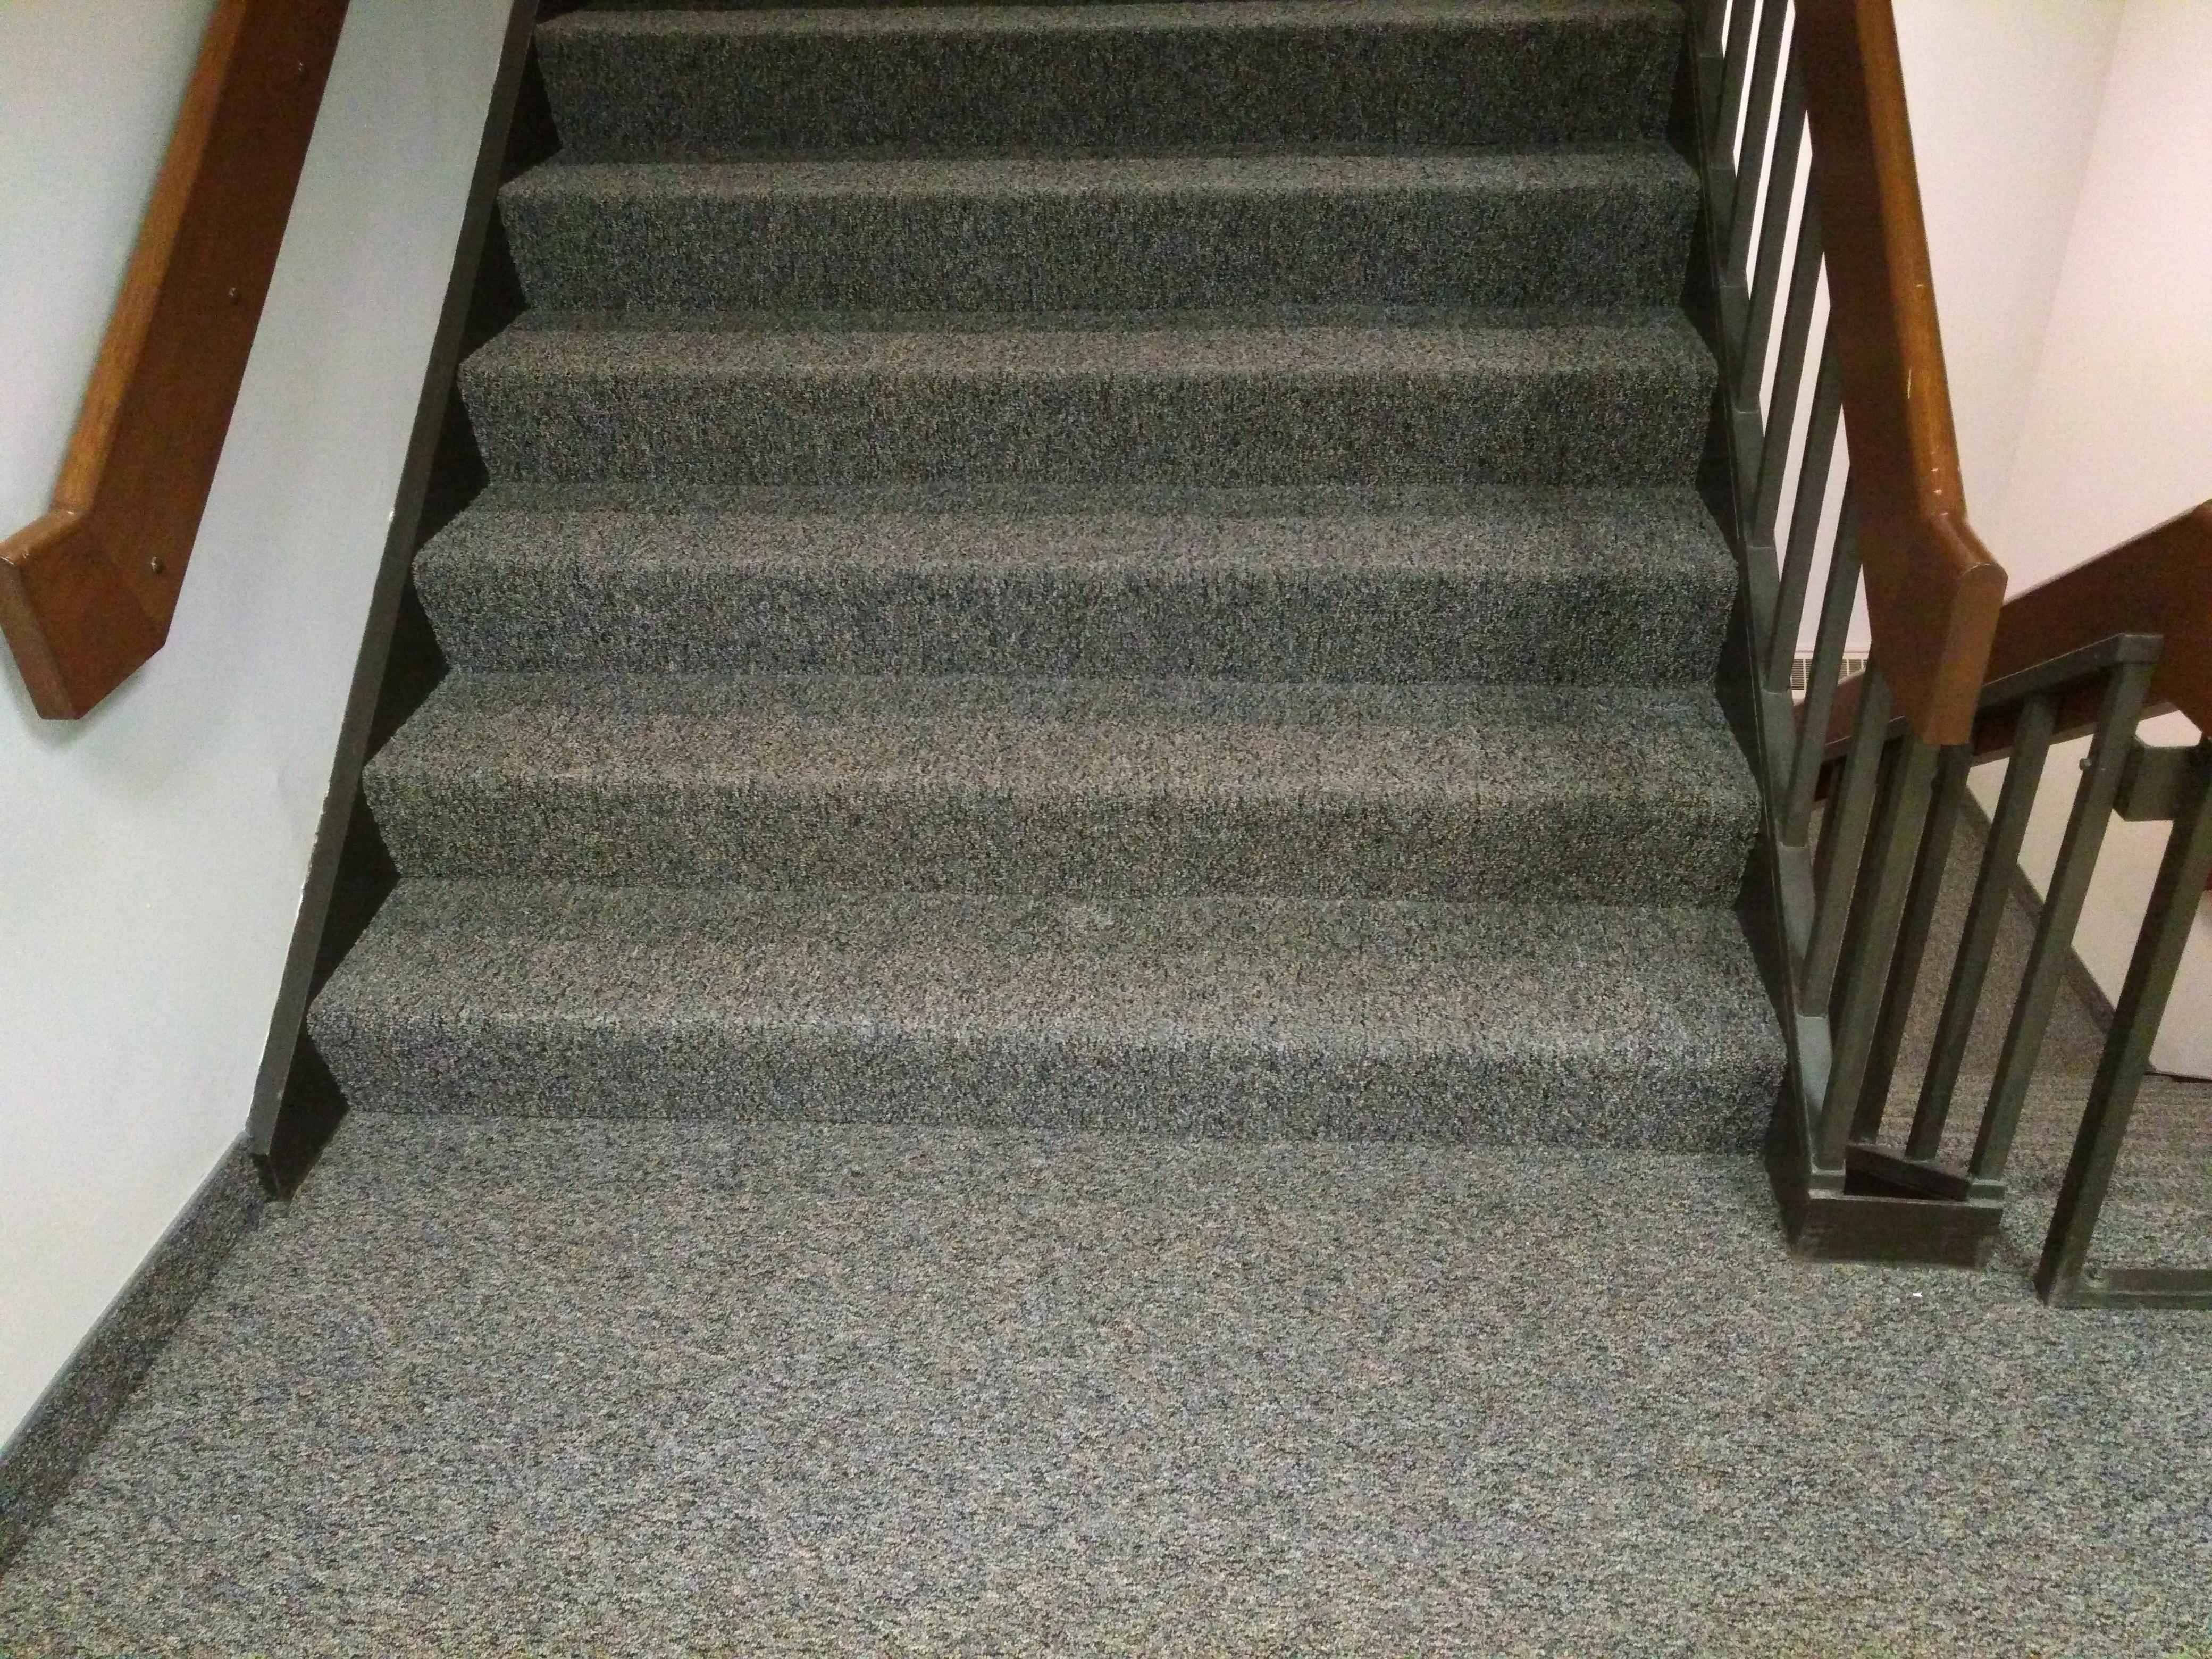stairs_up: (307, 19, 1827, 1234)
